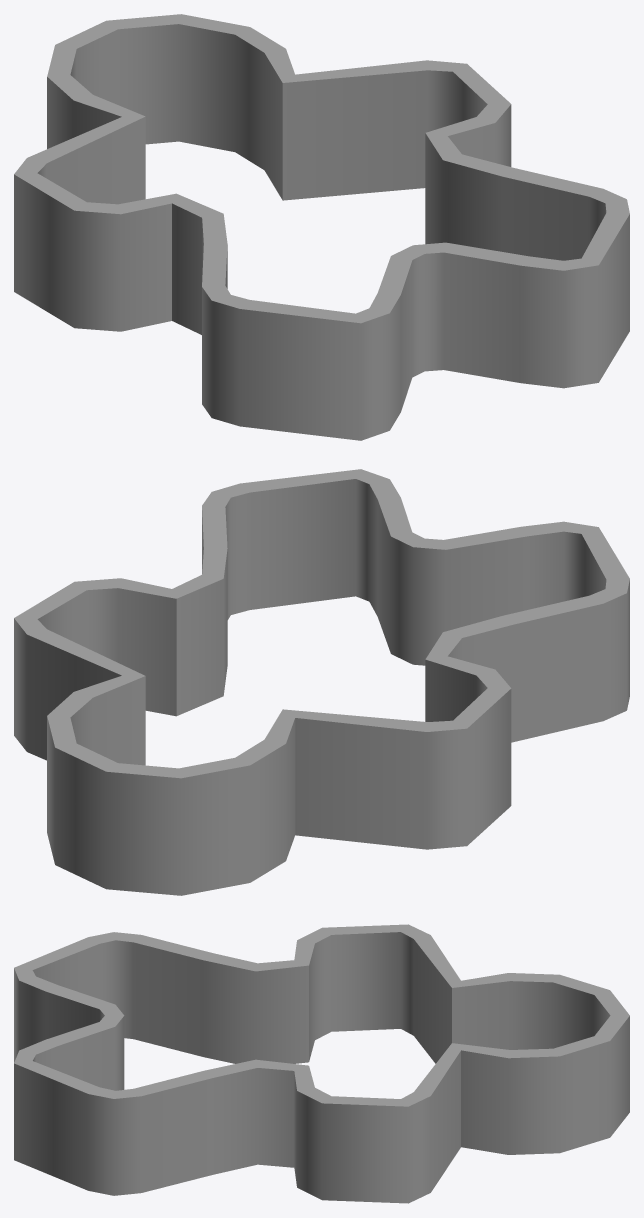
File: BiscuitCutter_Figure_01.fbx
The picture shows the model from 3 angles, top to bottom: view 1: azimuth 30°, elevation 25°; view 2: azimuth 150°, elevation 25°; view 3: azimuth 270°, elevation 25°; orthographic projection. The views are drawn at different scales.
Visible parts, largest first — view 1: BiscuitCutter_Figure_01; view 2: BiscuitCutter_Figure_01; view 3: BiscuitCutter_Figure_01.
Boxes of the visible parts, box(x1,y1,x2,y2) form: BiscuitCutter_Figure_01: box(14, 14, 629, 440); BiscuitCutter_Figure_01: box(14, 469, 629, 895); BiscuitCutter_Figure_01: box(14, 924, 629, 1203).
Size of the model in its own units: 0.0515 by 0.0128 by 0.0736.
